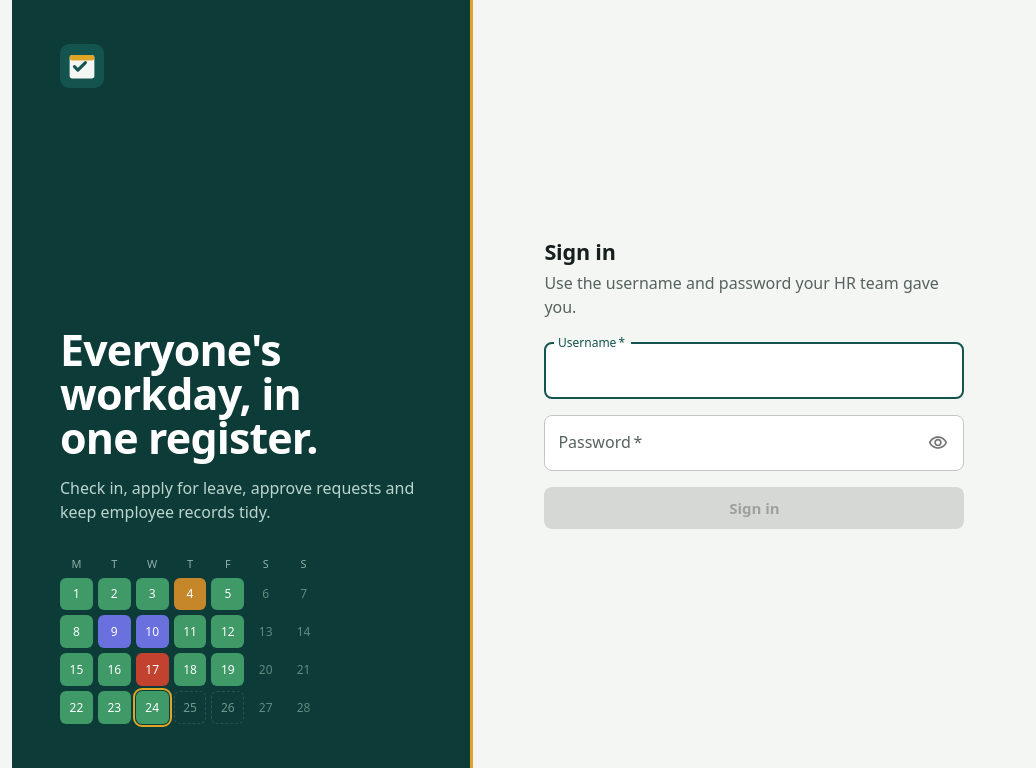
LoginPage › shows the server message when sign-in fails
Type "ravi" into the field labelled "Username *".
click(754, 371); type("ravi")  # box [544,343,964,399]
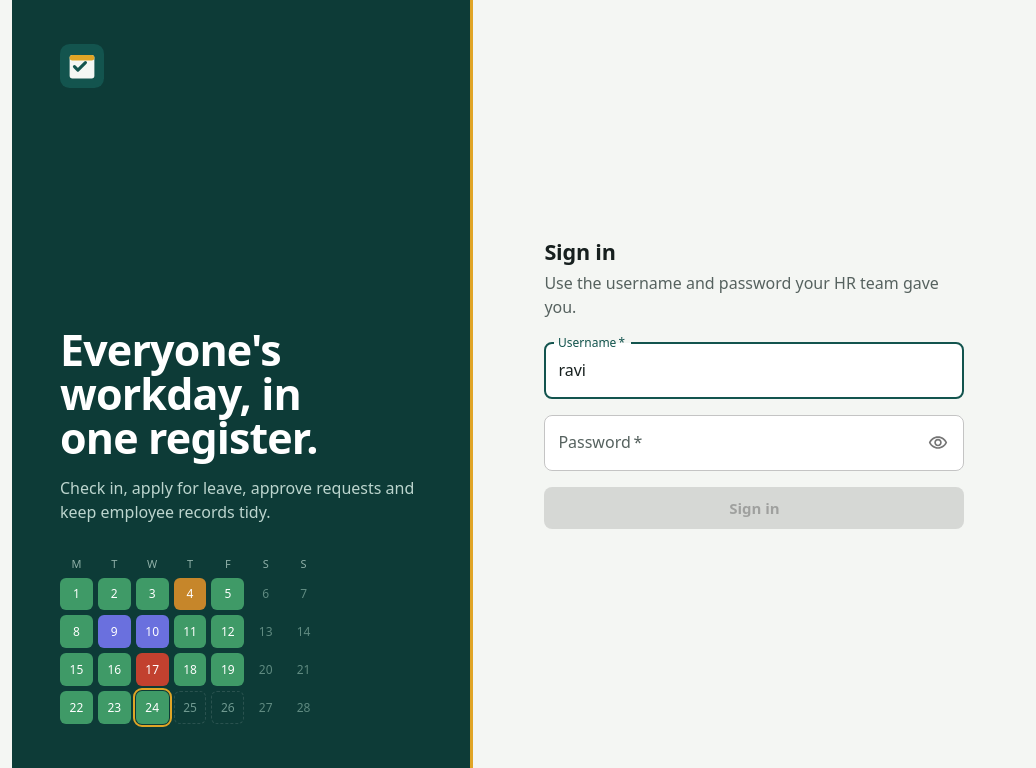
Type "wrong-pass1" into the password field labelled "Password *".
click(730, 443); type("wrong-pass1")  # box [544,415,915,471]
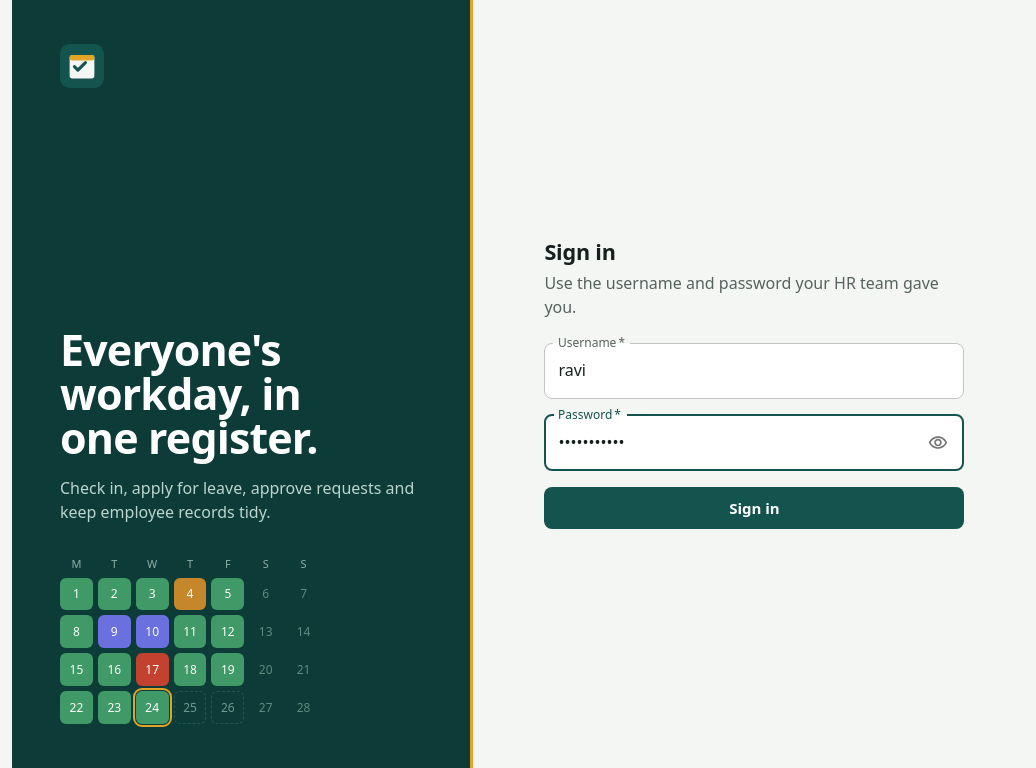
Click the button "Sign in".
click(754, 508)  # box [544,487,964,529]
(page scrolled)
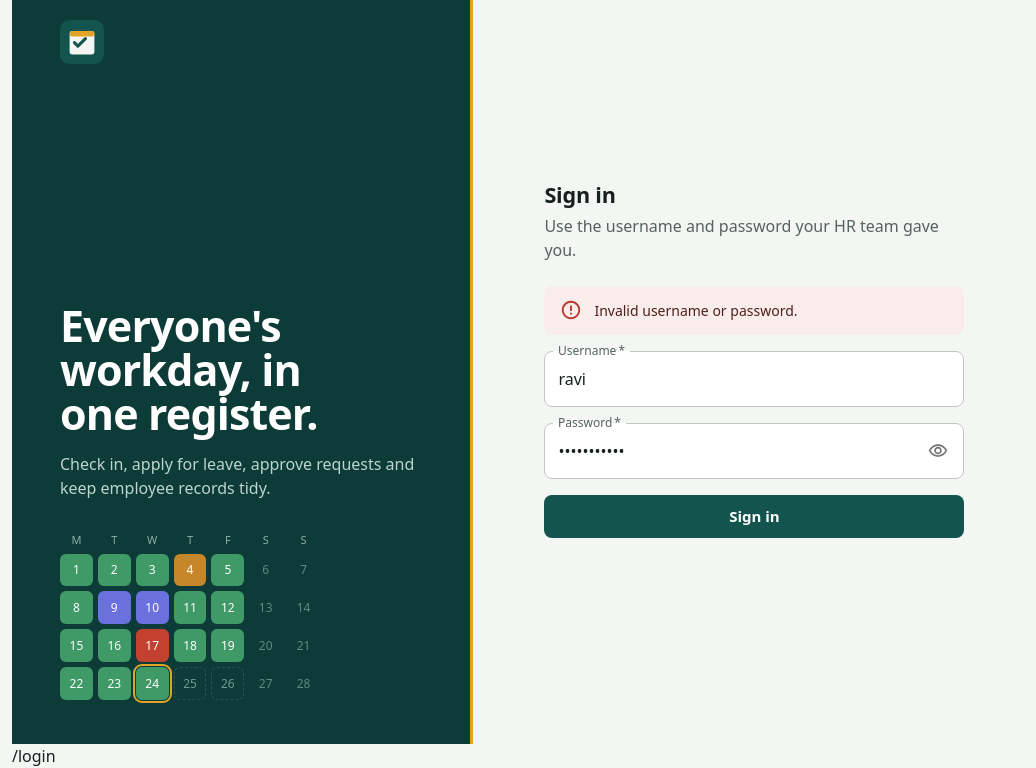
Expected: the text with test id "location" reads "/login", [12,745,56,767]
Now the text "Invalid username or password." is shown, box [594,301,798,320]
